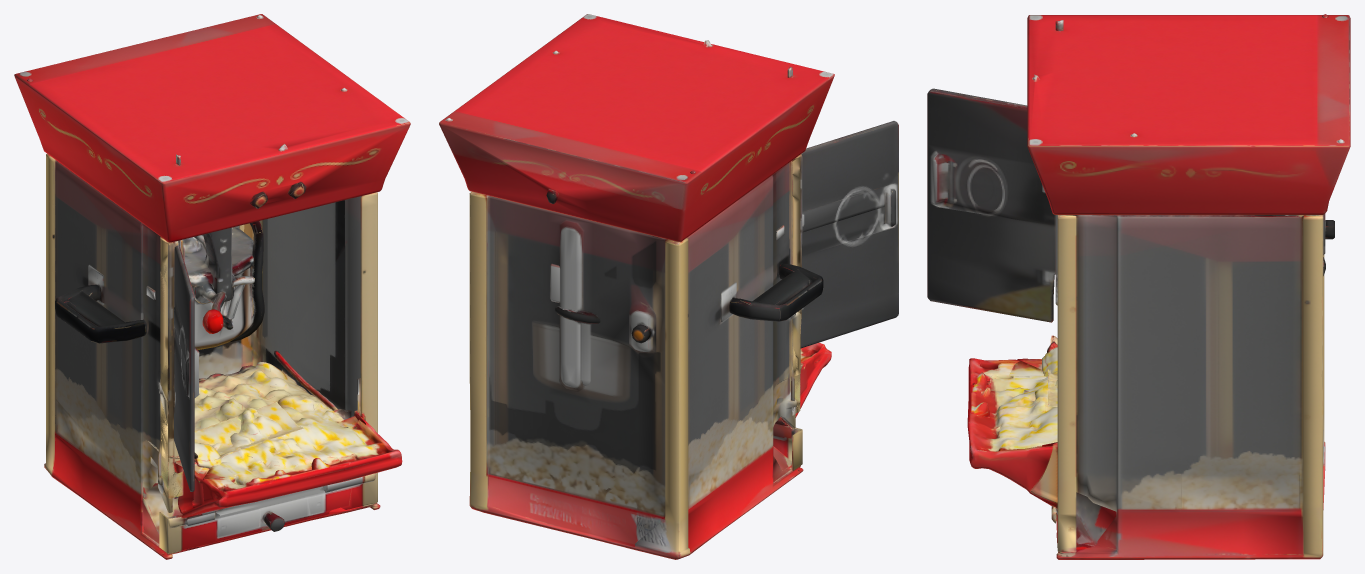
File: Popcorn_Maker_24InchesTall_0215212244_texture.glb
The picture shows the model from 3 angles, left to right: view 1: azimuth 30°, elevation 25°; view 2: azimuth 150°, elevation 25°; view 3: azimuth 270°, elevation 25°; orthographic projection. The views are drawn at different scales.
Visible parts, largest first — view 1: Mesh_0.001; view 2: Mesh_0.001; view 3: Mesh_0.001.
Boxes of the visible parts, <box> form: Mesh_0.001: <box>14,14,410,559</box>; Mesh_0.001: <box>439,14,898,559</box>; Mesh_0.001: <box>927,14,1350,559</box>.
Size of the model in its own units: 0.4426 by 0.6096 by 0.5385.
1 material, 1 textured.
